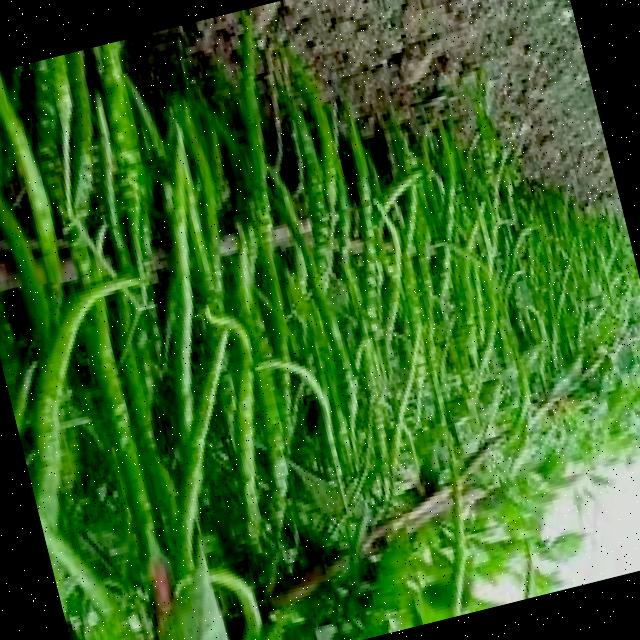healthy: (0, 0, 455, 597)
